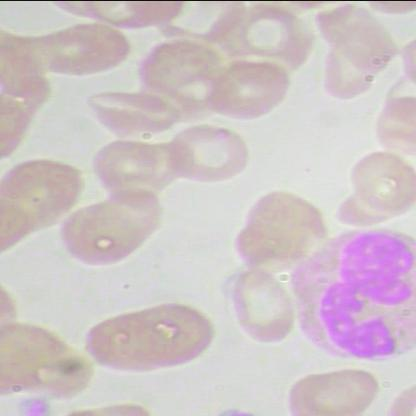RBC: (58, 195, 146, 275), (74, 303, 162, 383), (126, 298, 214, 378), (311, 1, 401, 73), (242, 183, 329, 254), (225, 269, 299, 349), (167, 122, 258, 184), (204, 58, 296, 119), (42, 18, 132, 80), (89, 131, 168, 197), (286, 364, 386, 416), (344, 148, 415, 216)
WBC: (290, 223, 415, 363)
